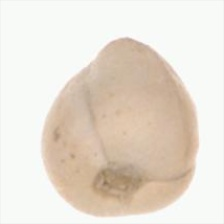L4: (40, 37, 198, 217)
